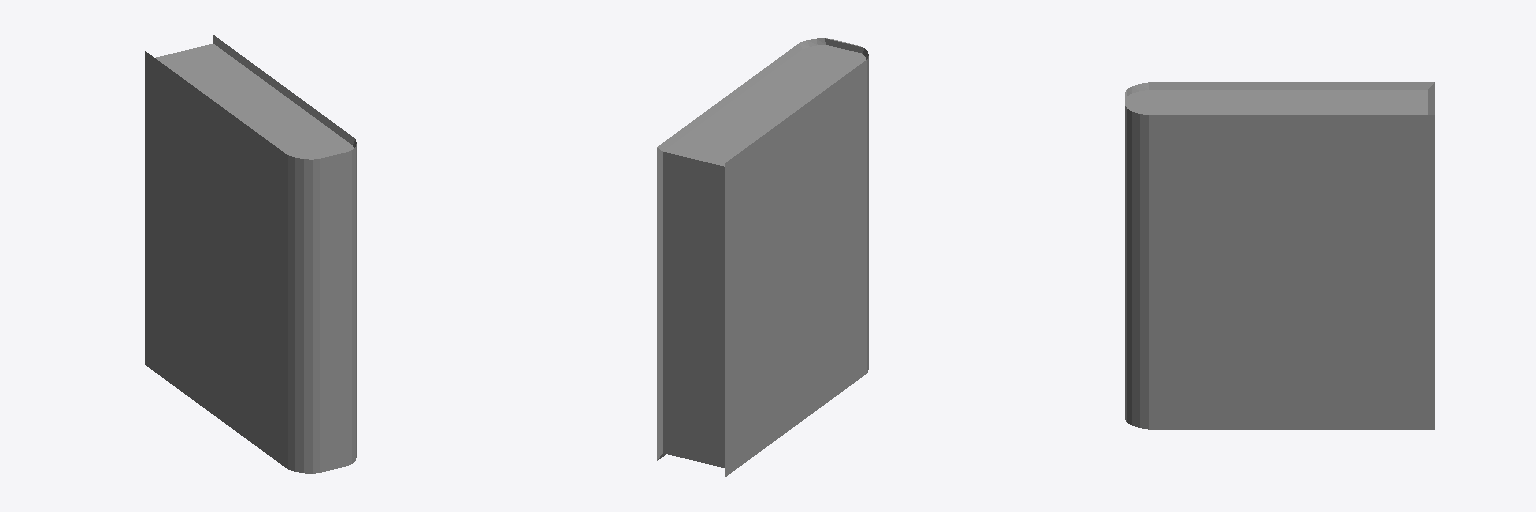
3 views of the same model, side by side, from view 1: azimuth 30°, elevation 25°; view 2: azimuth 150°, elevation 25°; view 3: azimuth 270°, elevation 25° (orthographic).
Parts seen in each view (by area): view 1: book_Cube; view 2: book_Cube; view 3: book_Cube.
Boxes of the visible parts, x1,y1,x2,y2 form: book_Cube: [145, 35, 356, 473]; book_Cube: [657, 38, 868, 476]; book_Cube: [1125, 82, 1434, 429].
Size of the model in its own units: 0.1128 by 0.5 by 0.446.